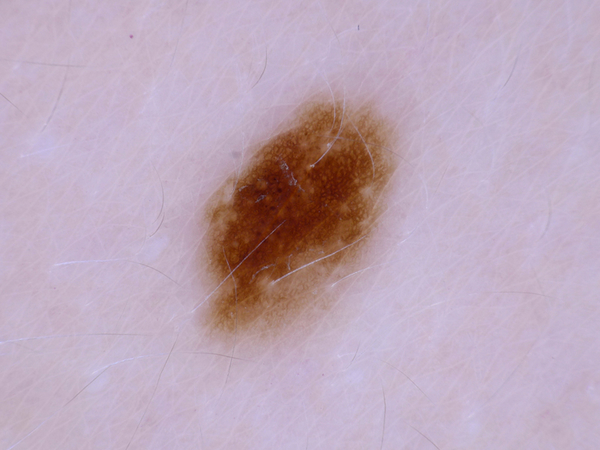Detected Lesion: (193, 93, 397, 348)
